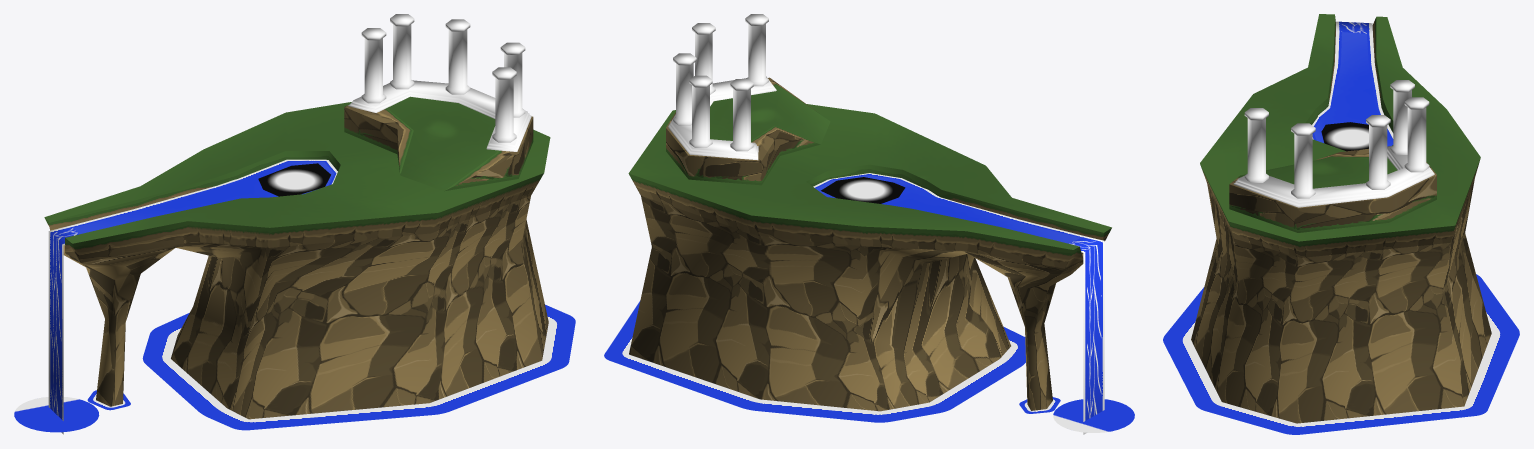
Rendered from island.obj.
3 views of the same model, side by side, from view 1: azimuth 30°, elevation 25°; view 2: azimuth 150°, elevation 25°; view 3: azimuth 270°, elevation 25° (orthographic). The views are drawn at different scales.
Visible parts, largest first — view 1: cliff_Plane, cliff_ground_Plane.003, Circle, cliff_top_Plane.002, cliff.001_Plane.008, cliff2.002_Plane.007, cliff_ground.004_Plane.016, cliff2_Plane.001, cliff_ground.001_Plane.009, cliff_ground.005_Plane.017, Cone, cliff_ground.007_Plane.006 (+2 smaller); view 2: cliff_Plane, cliff_ground_Plane.003, cliff_top_Plane.002, Circle, cliff.001_Plane.008, cliff2.002_Plane.007, cliff2_Plane.001, cliff_ground.004_Plane.016, cliff_ground.007_Plane.006, cliff_ground.001_Plane.009, cliff_ground.005_Plane.017, Cone (+2 smaller); view 3: cliff_Plane, cliff_ground_Plane.003, Circle, cliff.001_Plane.008, cliff2_Plane.001, cliff_top_Plane.002, cliff_ground.004_Plane.016, cliff2.002_Plane.007, cliff_ground.005_Plane.017, cliff_ground.006_Plane.018, cliff_ground.001_Plane.009, cliff2.001_Plane.005.
Boxes of the visible parts, left/top/right/bottom form: cliff_Plane: left=63, top=196, right=548, bottom=419; cliff_ground_Plane.003: left=44, top=101, right=550, bottom=243; Circle: left=348, top=14, right=531, bottom=151; cliff_top_Plane.002: left=44, top=173, right=543, bottom=262; cliff.001_Plane.008: left=87, top=304, right=575, bottom=430; cliff2.002_Plane.007: left=387, top=96, right=496, bottom=190; cliff_ground.004_Plane.016: left=74, top=162, right=334, bottom=234; cliff2_Plane.001: left=344, top=107, right=533, bottom=191; cliff_ground.001_Plane.009: left=49, top=151, right=340, bottom=230; cliff_ground.005_Plane.017: left=48, top=159, right=337, bottom=434; Cone: left=14, top=397, right=99, bottom=432; cliff_ground.007_Plane.006: left=51, top=228, right=78, bottom=418; cliff_Plane: left=629, top=196, right=1083, bottom=411; cliff_ground_Plane.003: left=628, top=104, right=1111, bottom=249; cliff_top_Plane.002: left=629, top=173, right=1111, bottom=268; Circle: left=668, top=14, right=776, bottom=160; cliff.001_Plane.008: left=604, top=301, right=1060, bottom=422; cliff2.002_Plane.007: left=710, top=86, right=830, bottom=144; cliff2_Plane.001: left=666, top=128, right=820, bottom=185; cliff_ground.004_Plane.016: left=816, top=175, right=1079, bottom=243; cliff_ground.007_Plane.006: left=1069, top=238, right=1101, bottom=419; cliff_ground.001_Plane.009: left=806, top=164, right=1103, bottom=240; cliff_ground.005_Plane.017: left=813, top=173, right=1104, bottom=434; Cone: left=1053, top=399, right=1134, bottom=432; cliff_Plane: left=1191, top=179, right=1491, bottom=423; cliff_ground_Plane.003: left=1200, top=14, right=1480, bottom=241; Circle: left=1233, top=80, right=1434, bottom=207; cliff.001_Plane.008: left=1163, top=274, right=1519, bottom=434; cliff2_Plane.001: left=1229, top=175, right=1436, bottom=232; cliff_top_Plane.002: left=1200, top=159, right=1480, bottom=257; cliff_ground.004_Plane.016: left=1314, top=32, right=1393, bottom=146; cliff2.002_Plane.007: left=1241, top=157, right=1397, bottom=188; cliff_ground.005_Plane.017: left=1312, top=21, right=1393, bottom=143; cliff_ground.006_Plane.018: left=1321, top=122, right=1368, bottom=151; cliff_ground.001_Plane.009: left=1305, top=16, right=1393, bottom=132; cliff2.001_Plane.005: left=1229, top=146, right=1436, bottom=208.
Size of what is drawn, in the model's own units: 49.21 by 26.39 by 29.11.
Materials: 9 (9 with a texture image).
